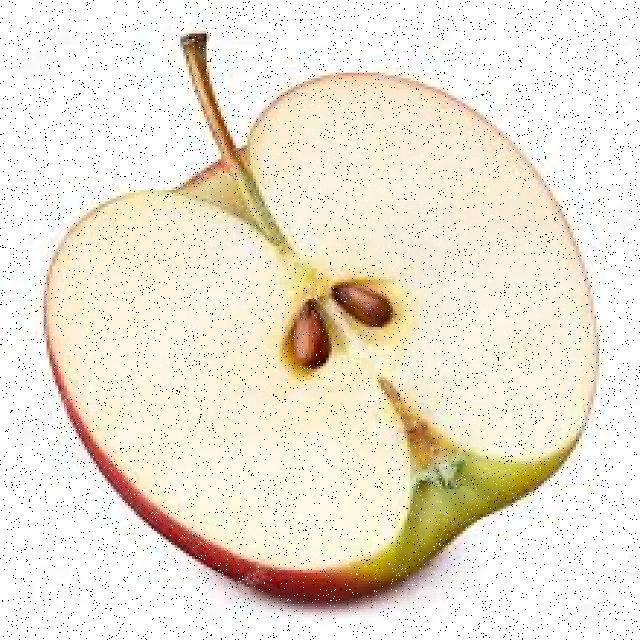Apple: (42, 75, 599, 605)
